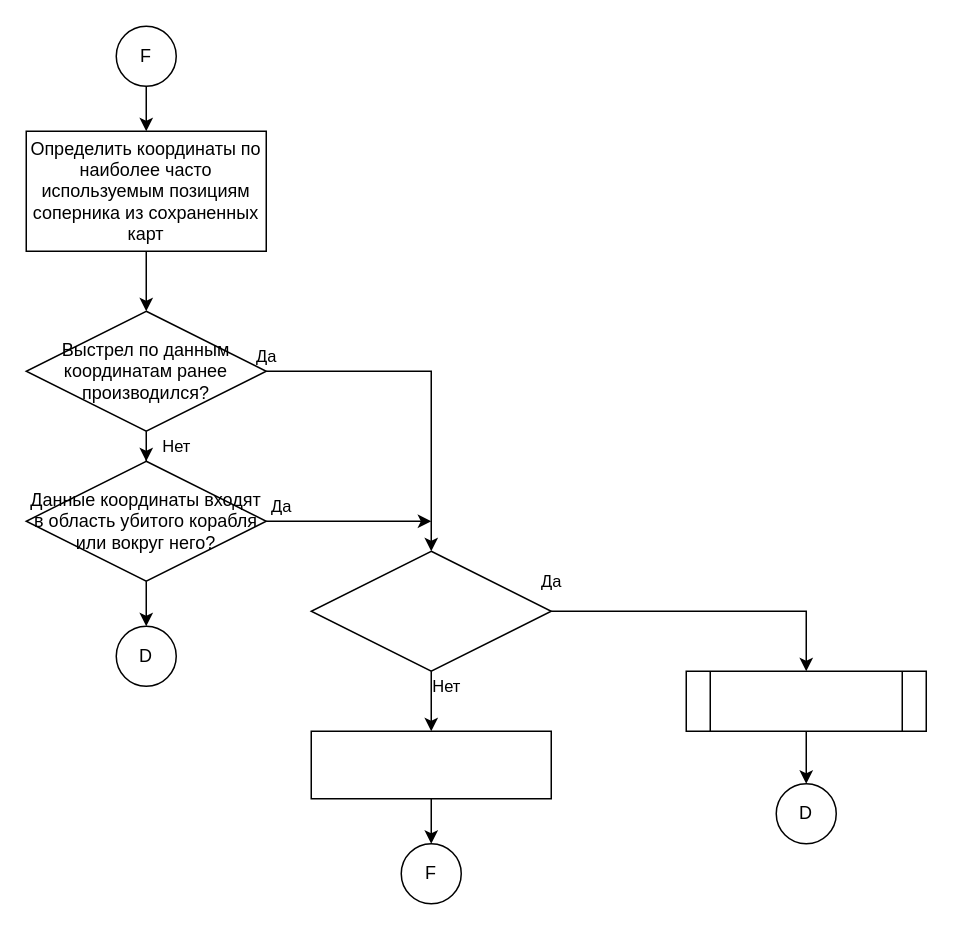
This 953x930 diagram has some shape labels left out. The shapes that lost their labels are listed below. From the top down, each one's centre as x and y in pixels, then its label:
At pixel 430 610: "Это последние координаты?".
At pixel 805 700: "Стандартная стрельба".
At pixel 430 764: "Перейти к следующим координатам".
